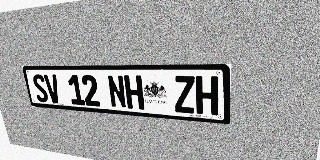1: (66, 75, 85, 105)
2: (81, 75, 100, 106)
H: (195, 76, 218, 115), (124, 75, 144, 110)
N: (107, 75, 127, 108)
S: (31, 74, 49, 103)
V: (43, 74, 62, 104)
Z: (173, 76, 195, 114)
